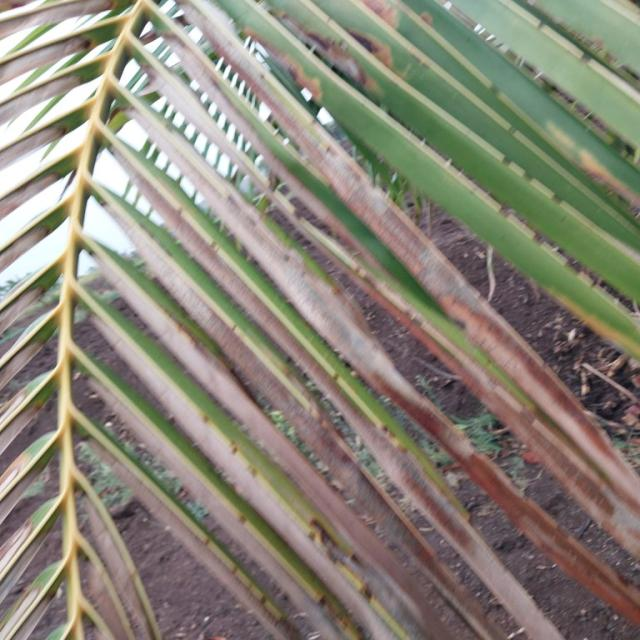gray leaf spot: (6, 6, 640, 634)
